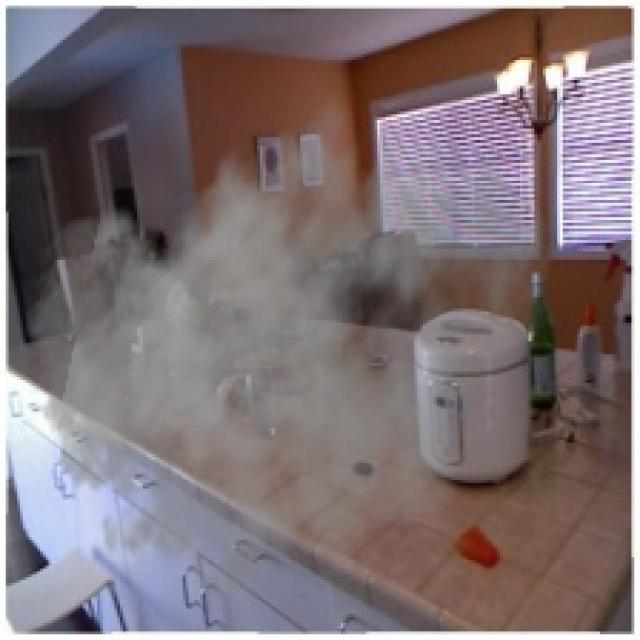Smoke: (17, 74, 554, 617)
